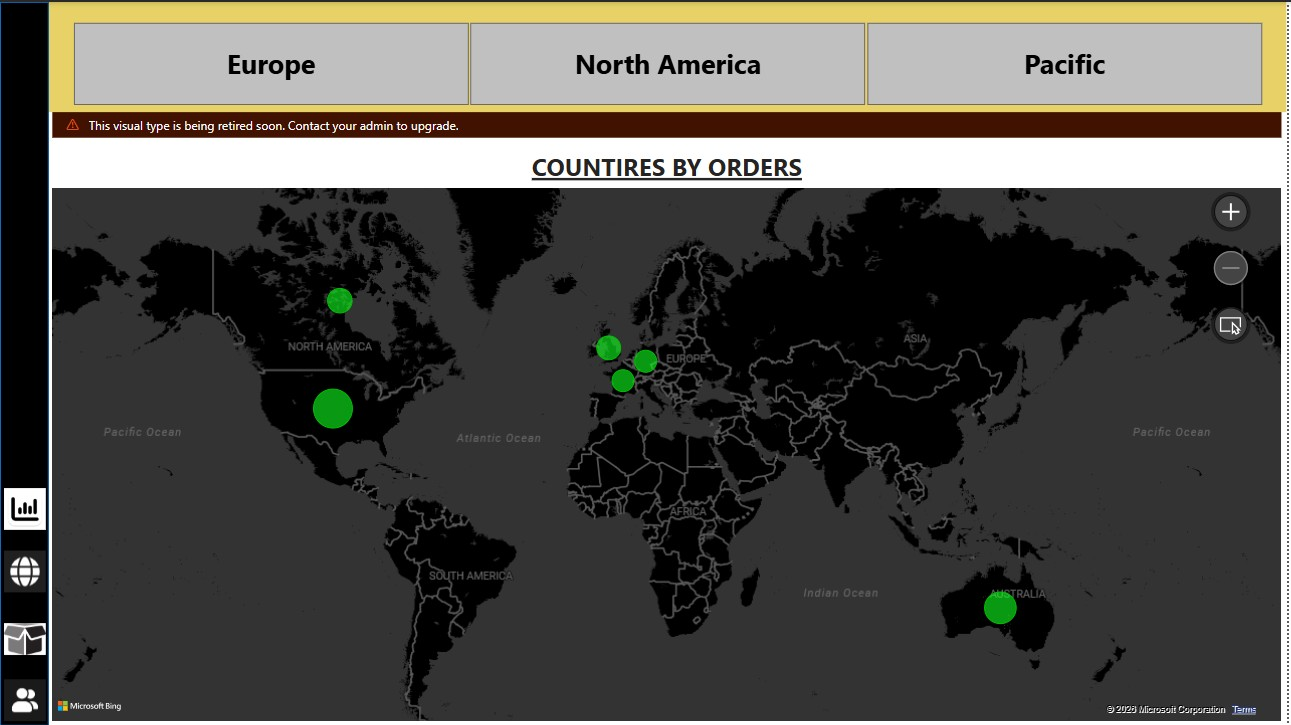

The page's visual inventory and layout, read from the dashboard file:
{"tool":"powerbi","page":{"name":"Map","canvas":[1280,720],"ordinal":1},"visuals":[{"type":"map","title":"COUNTIRES BY ORDERS","fields":{"Category":["Territory Lookup.Country"],"Size":["Measures Table.Total orders"]},"box":[47.3,109.5,1232.8,610.8],"z":0},{"type":"actionButton","box":[0,479,49.8,51],"z":0,"group":"g1"},{"type":"slicer","fields":{"Values":["Territory Lookup.Continent"]},"box":[47.3,0,1232.8,109.5],"z":1000},{"type":"actionButton","box":[0,541.2,49.8,51],"z":1000,"group":"g1"},{"type":"shape","box":[0,0,48.5,720.3],"z":2000},{"type":"actionButton","box":[0,669.3,49.8,51],"z":2000,"group":"g1"},{"type":"group","id":"g1","title":"Custom navigation button","box":[0,479,49.1,240.9],"z":3000},{"type":"actionButton","box":[0,608.4,49.8,51],"z":3000,"group":"g1"}]}

Visuals, with their boxes in screenshot pixels (x1, y1, x2, y2):
"COUNTIRES BY ORDERS" map: <box>47,109,1273,716</box>
actionButton: <box>0,476,50,527</box>
slicer - Territory Lookup.Continent: <box>47,0,1273,109</box>
actionButton: <box>0,538,50,589</box>
shape: <box>0,0,48,716</box>
actionButton: <box>0,666,50,716</box>
"Custom navigation button" group: <box>0,476,49,716</box>
actionButton: <box>0,605,50,656</box>
